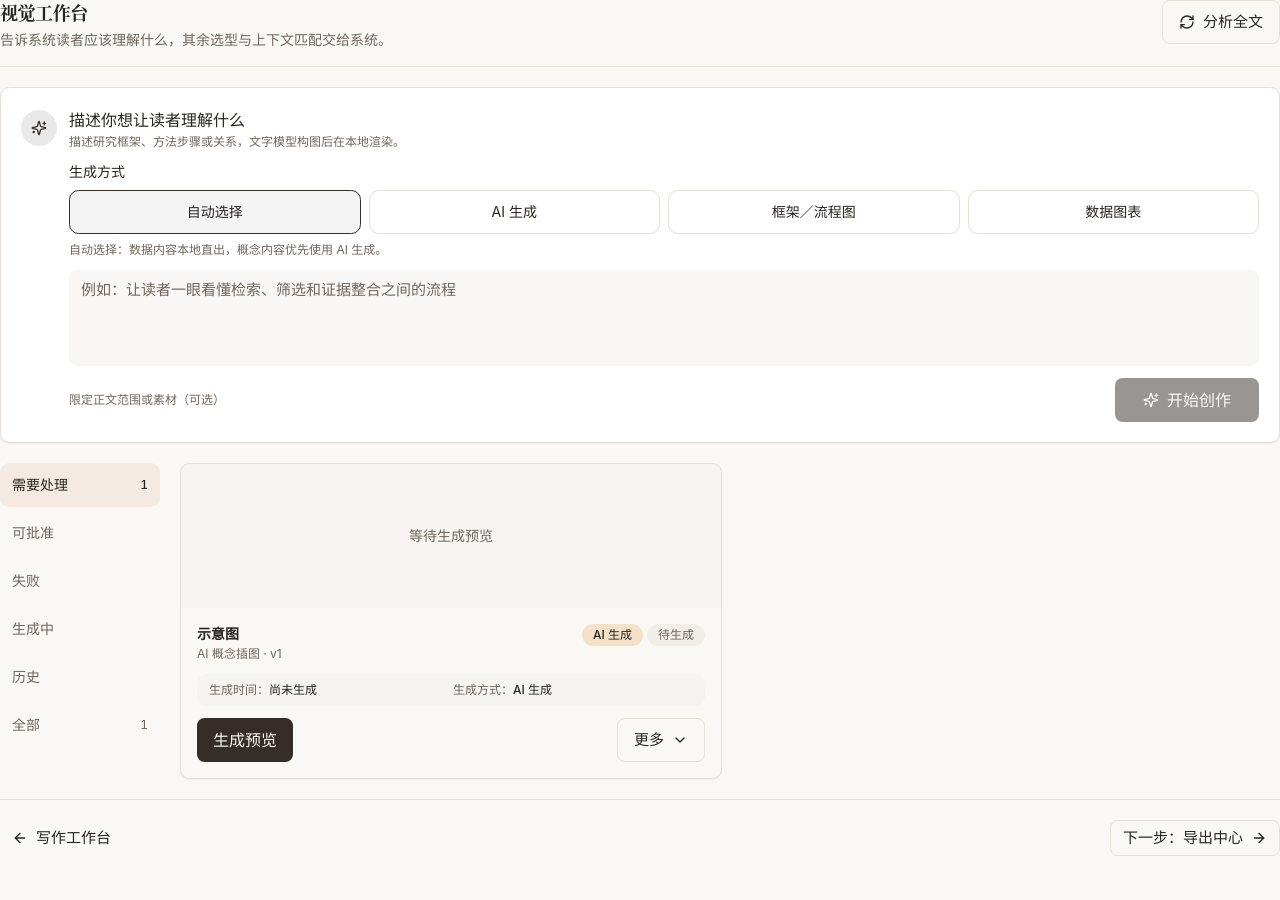
Test: 视觉工作台 › AI 确认框隐藏供应商、模型和 API 细节
This screenshot has width=1280, height=900.
What coordinates should you click on to do the following:
click the button "生成预览"
I would click on:
 (245, 740)
Its box is [197,718,293,762].
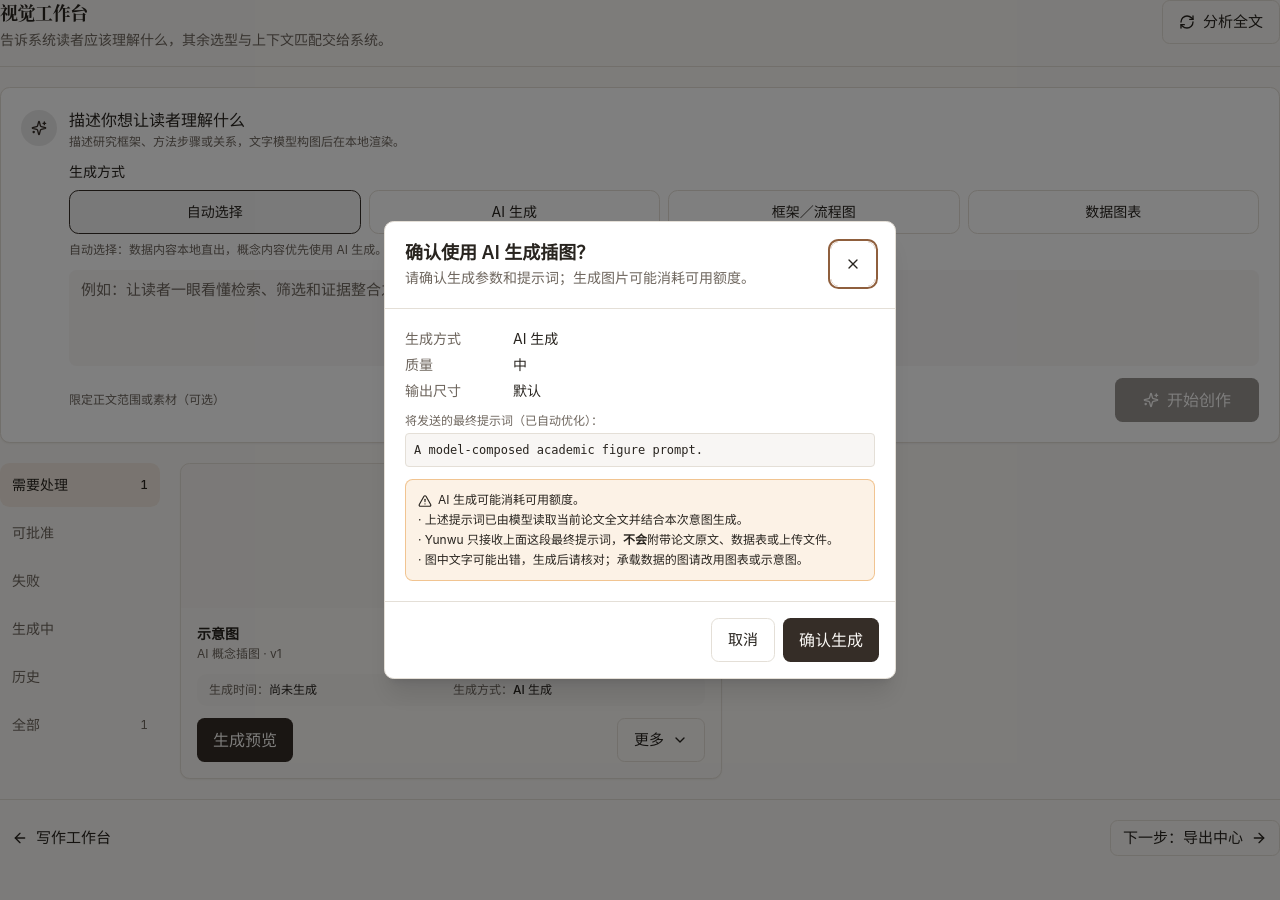
Result: the heading "确认使用 AI 生成插图？" is shown at [405,242,594,263]
Result: the text "AI 生成" is shown at [513,330,558,347]
